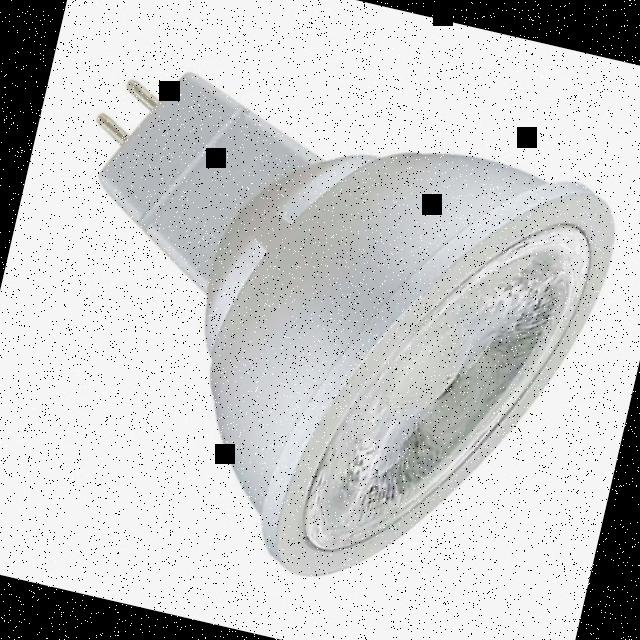light_bulb: (6, 50, 640, 632)
